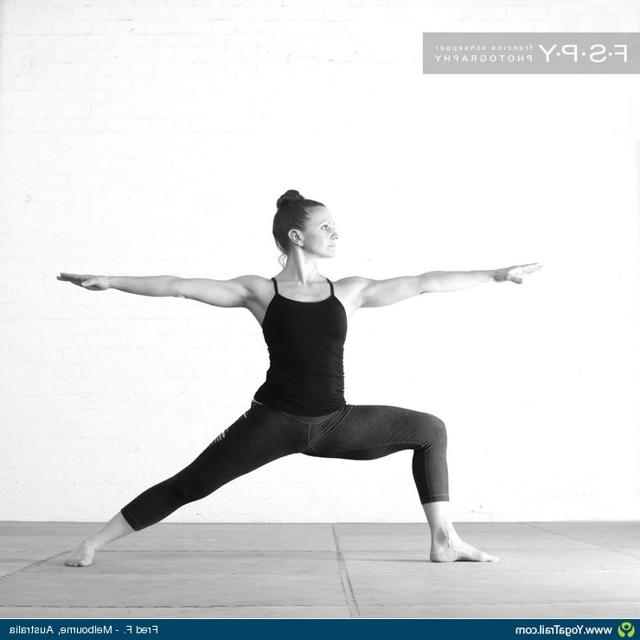Warrior_II: (45, 188, 546, 572)
